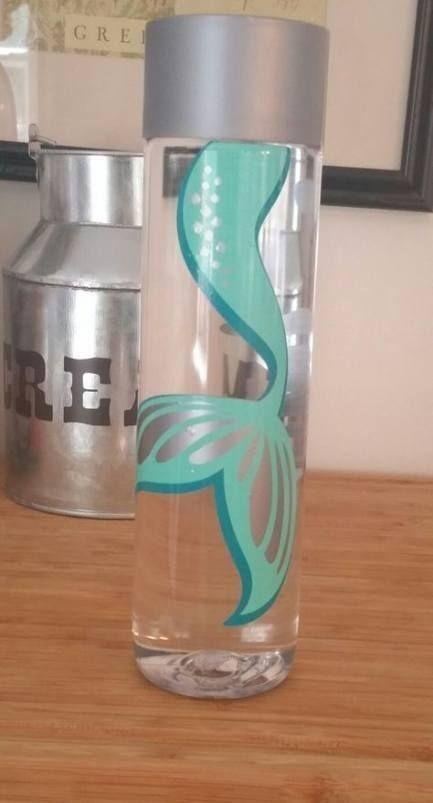gym bottle: (129, 10, 331, 698)
